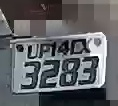1: (50, 40, 58, 58)
2: (40, 58, 62, 90)
3: (78, 54, 102, 87), (19, 60, 41, 92)
4: (56, 39, 71, 57)
8: (58, 57, 82, 88)
C: (71, 37, 82, 55)
P: (37, 42, 50, 60)
U: (26, 43, 39, 60)
X: (81, 36, 92, 55)
